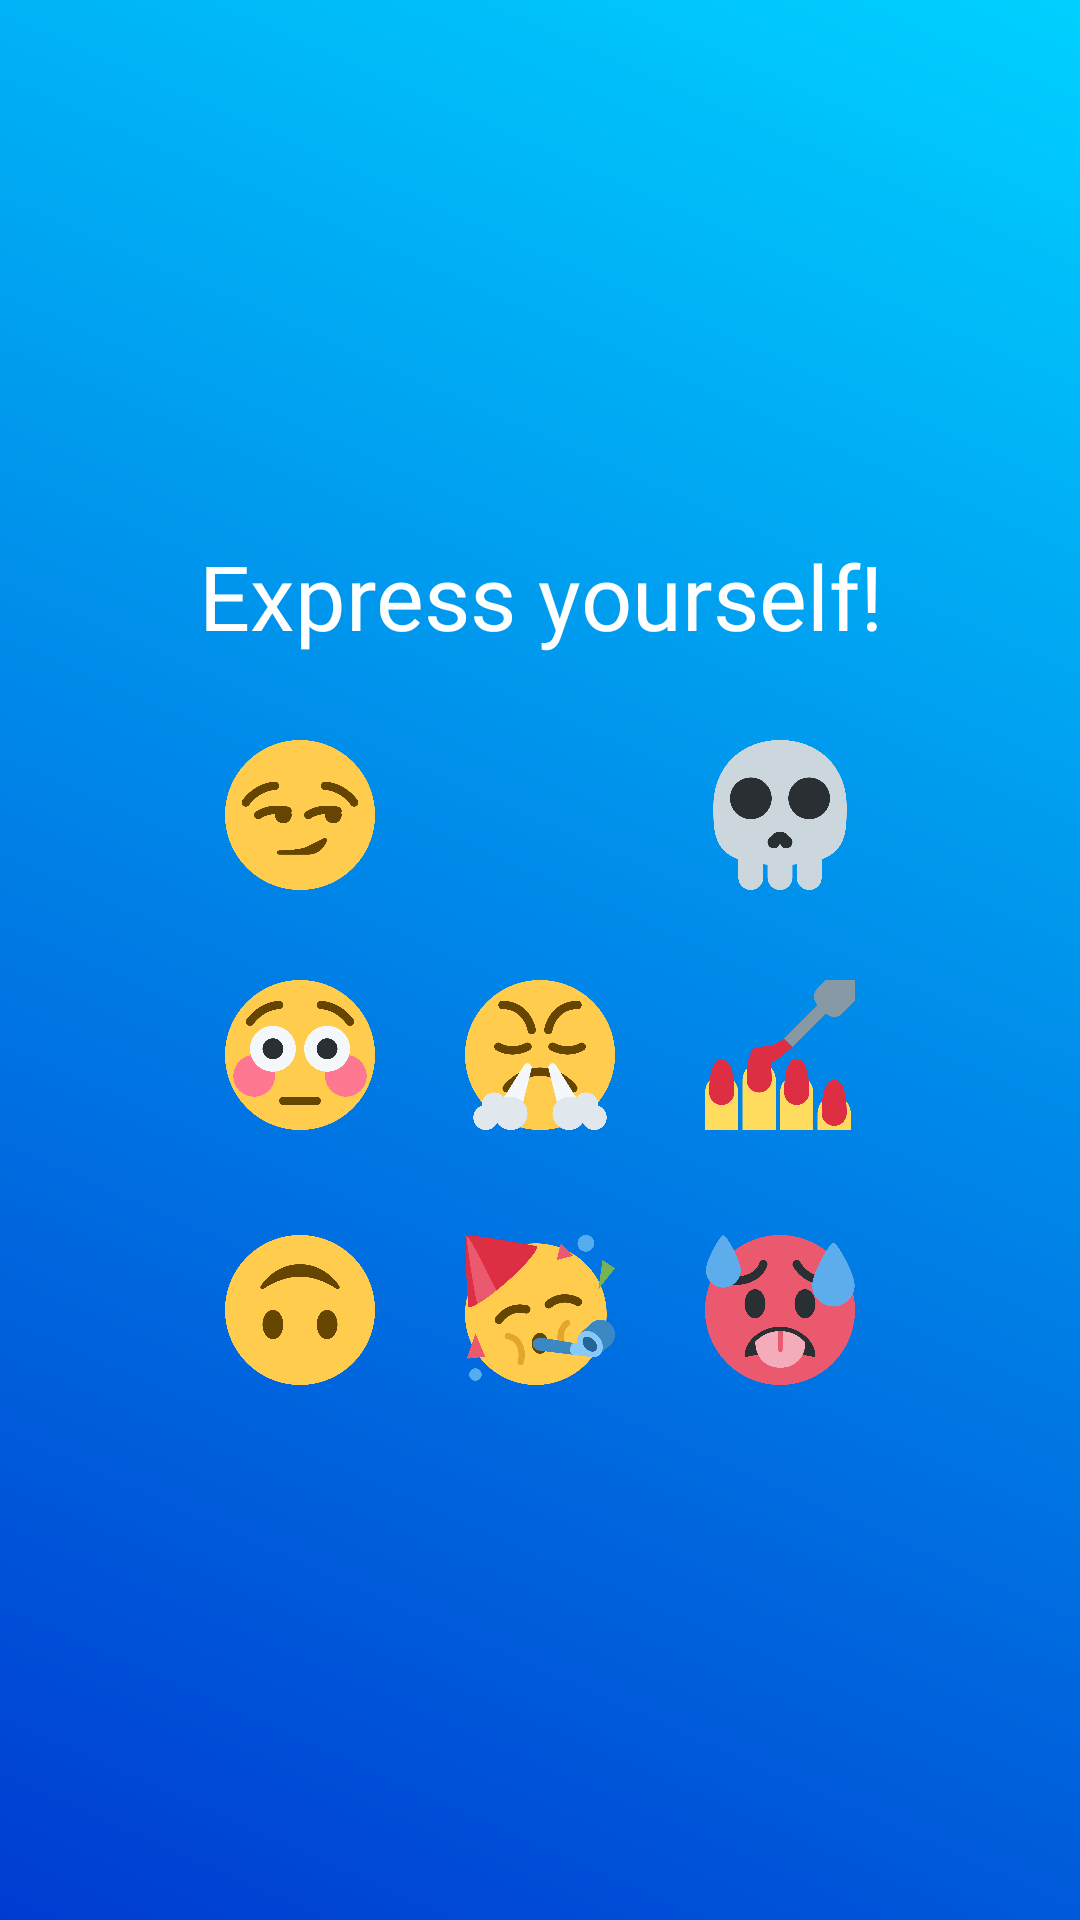

Where to tap for icons on this 1080px x 1920px app screen, as point (x, y):
emote code: point (300, 815), point (780, 815), point (300, 1055), point (540, 1055), point (780, 1055), point (300, 1310), point (540, 1310), point (780, 1310)
